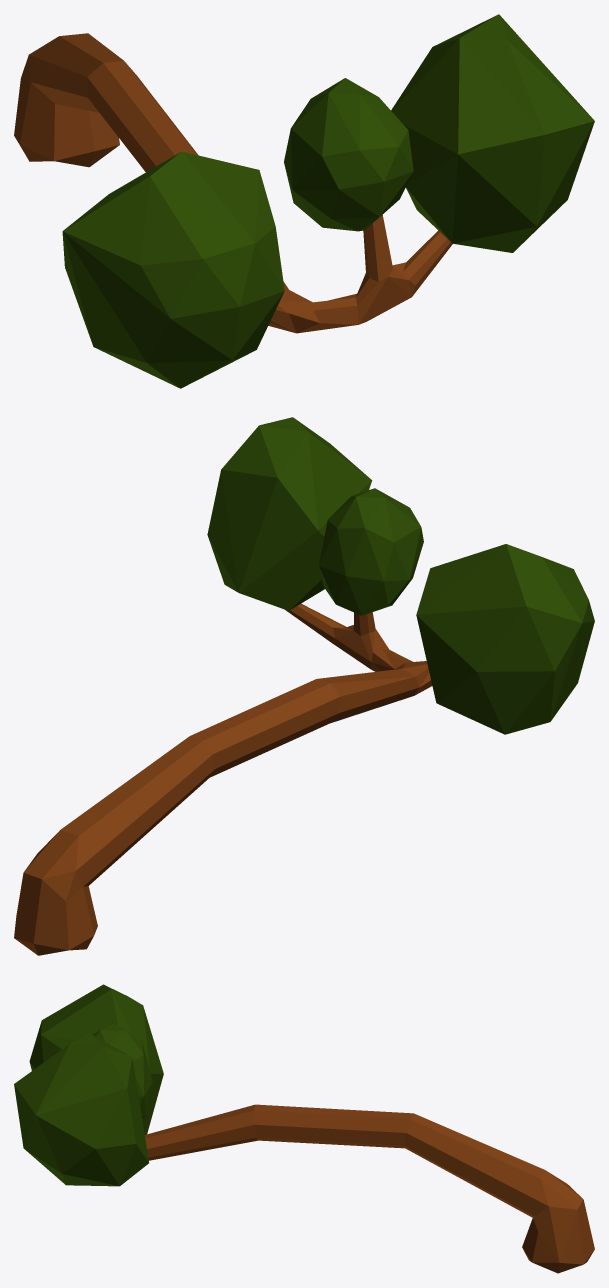
The model's file is hanging tree.fbx.
3 views of the same model, one above another, from view 1: azimuth 30°, elevation 25°; view 2: azimuth 150°, elevation 25°; view 3: azimuth 270°, elevation 25° (orthographic). The views are drawn at different scales.
Parts seen in each view (by area): view 1: Icosphere.004, Icosphere.001, Cube, Icosphere.003; view 2: Cube, Icosphere.004, Icosphere.001, Icosphere.003; view 3: Cube, Icosphere.001, Icosphere.004, Icosphere.003.
Boxes of the visible parts, x1,y1,x2,y2 form: Icosphere.004: (62, 151, 284, 388); Icosphere.001: (391, 14, 594, 252); Cube: (14, 33, 452, 333); Icosphere.003: (284, 78, 413, 231); Cube: (14, 603, 432, 955); Icosphere.004: (416, 544, 594, 734); Icosphere.001: (207, 417, 372, 610); Icosphere.003: (319, 488, 423, 615); Cube: (145, 1104, 594, 1273); Icosphere.001: (14, 1033, 148, 1186); Icosphere.004: (29, 984, 163, 1134); Icosphere.003: (92, 1023, 152, 1118).
Bounding box in the file's own units: 506 × 378 × 802.
